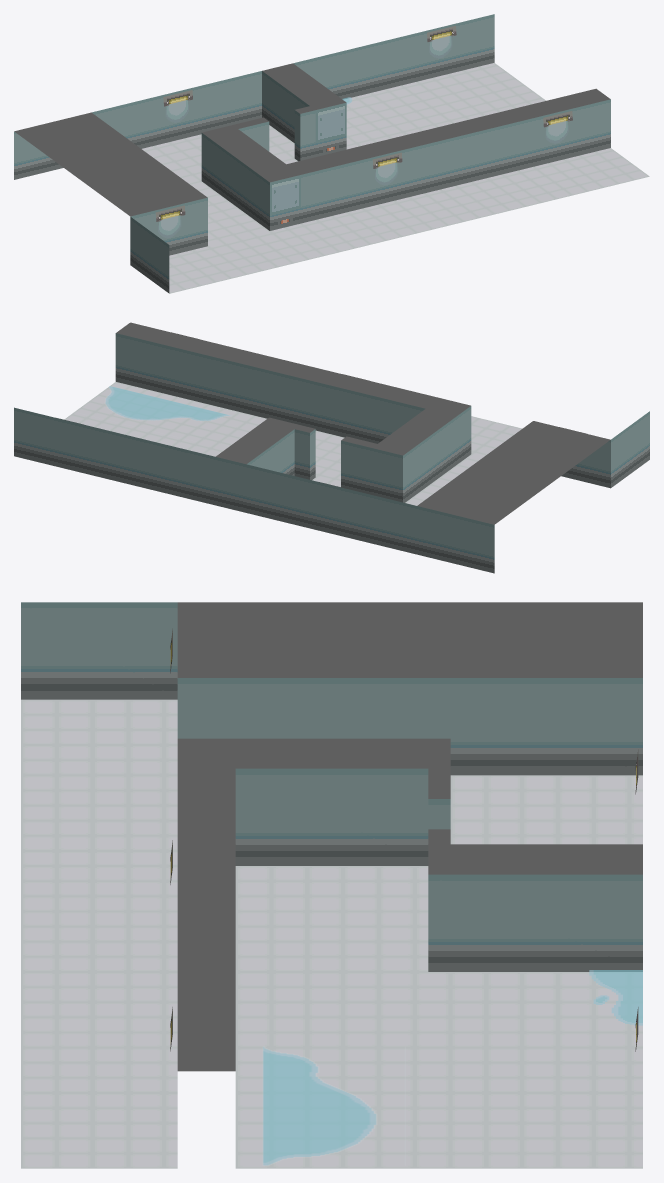
File: GALHQ8-1.obj
The picture shows the model from 3 angles, top to bottom: view 1: azimuth 30°, elevation 25°; view 2: azimuth 150°, elevation 25°; view 3: azimuth 270°, elevation 25°; orthographic projection. The views are drawn at different scales.
Parts seen in each view (by area): view 1: m_dun2605_00_00c; view 2: m_dun2605_00_00c; view 3: m_dun2605_00_00c.
Boxes of the visible parts, bbox=[...] form: m_dun2605_00_00c: bbox=[14, 14, 649, 293]; m_dun2605_00_00c: bbox=[14, 322, 649, 573]; m_dun2605_00_00c: bbox=[21, 602, 642, 1168].
Size of the model in its own units: 496 by 48 by 278.
